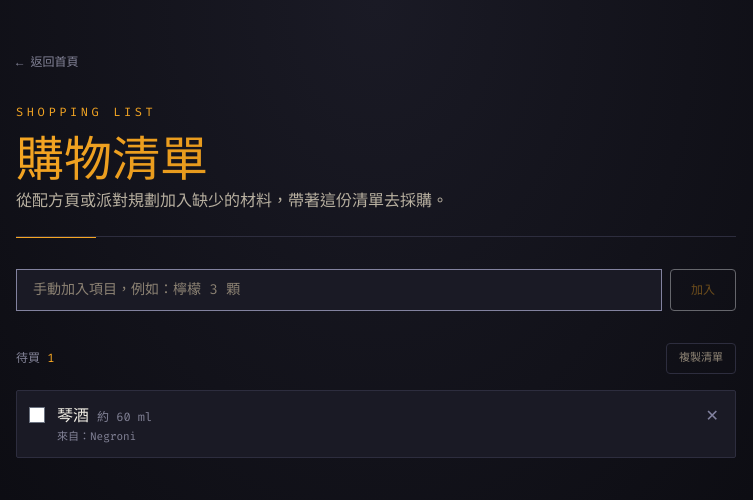
Test: 購物清單 › 複製成功時給出回饋
The image size is (753, 500).
Click the button "複製清單".
click(701, 358)  # box [666,343,736,374]
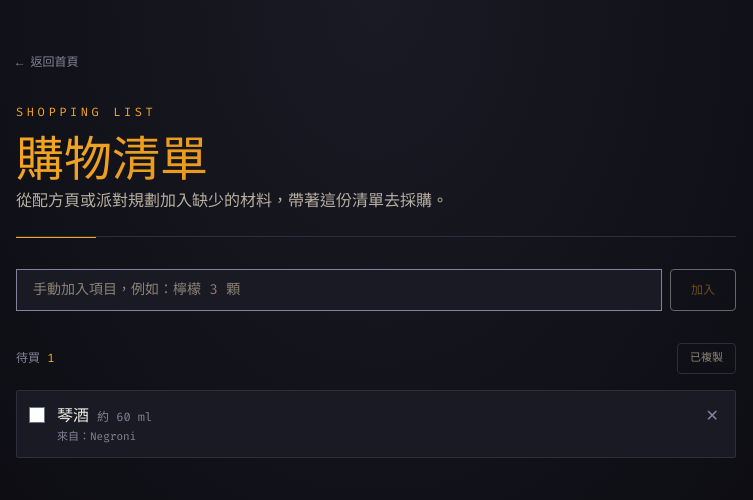
Result: the button "已複製" is shown at [677,343,736,374]
